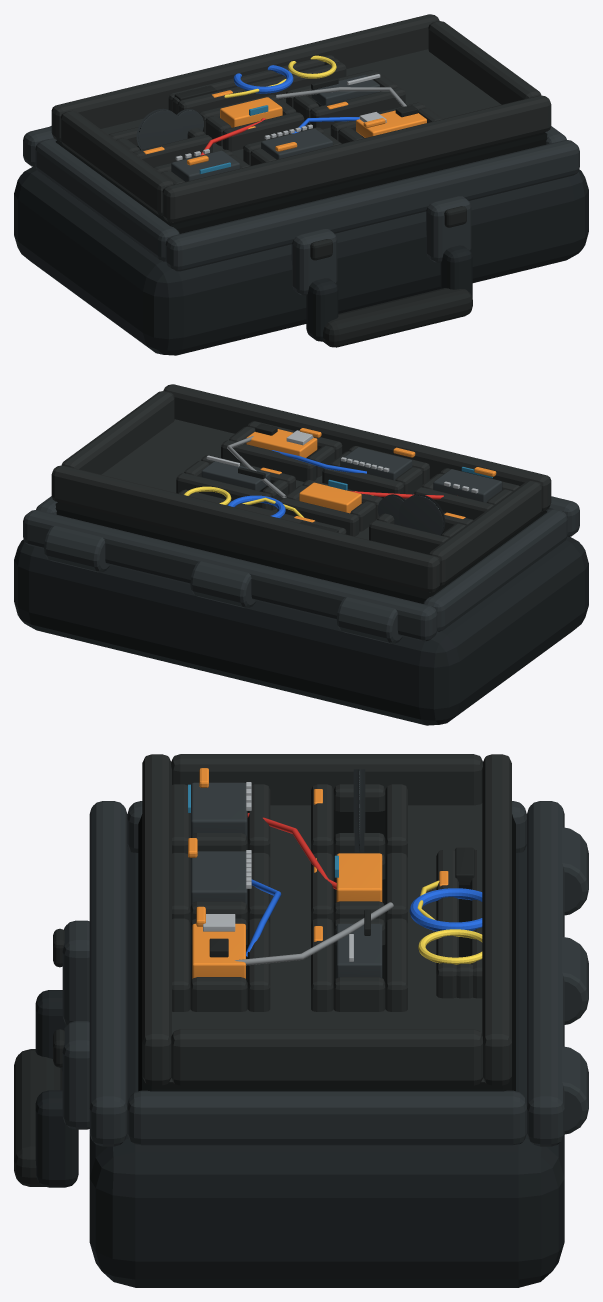
Rendered from EquipmentCase_InventoryStandIn_VariantB.fbx.
3 renders of one model, top to bottom at view 1: azimuth 30°, elevation 25°; view 2: azimuth 150°, elevation 25°; view 3: azimuth 270°, elevation 25°, orthographic. The views are drawn at different scales.
Parts seen in each view (by area): view 1: ECB_Base_Shell, ECB_Lip_Front, ECB_FoamTray_Wall_Front, ECB_FoamTray_Wall_Back, ECB_Lip_Left, ECB_Base_InnerFloor, ECB_FoamTray_Surface, ECB_Handle_Bar, ECB_FoamTray_Wall_Left, ECB_FoamTray_Wall_Right, ECB_Latch_L, ECB_Latch_R (+19 smaller); view 2: ECB_Base_Shell, ECB_FoamTray_Wall_Back, ECB_Lip_Back, ECB_FoamTray_Wall_Front, ECB_Lip_Left, ECB_Base_InnerFloor, ECB_FoamTray_Surface, ECB_FoamTray_Wall_Left, ECB_FoamTray_Wall_Right, ECB_Hinge_Barrel_3, ECB_Hinge_Barrel_2, ECB_Hinge_Barrel_1 (+17 smaller); view 3: ECB_Base_Shell, ECB_Lip_Right, ECB_FoamTray_Surface, ECB_FoamTray_Wall_Right, ECB_Lip_Front, ECB_Lip_Back, ECB_FoamTray_Wall_Left, ECB_FoamTray_Wall_Front, ECB_FoamTray_Wall_Back, ECB_Base_InnerFloor, ECB_Handle_Bar, ECB_Handle_Bracket_R (+38 smaller).
Boxes of the visible parts, x1,y1,x2,y2 form: ECB_Base_Shell: [14, 167, 588, 355]; ECB_Lip_Front: [165, 140, 579, 271]; ECB_FoamTray_Wall_Front: [162, 95, 551, 222]; ECB_FoamTray_Wall_Back: [51, 14, 439, 141]; ECB_Lip_Left: [35, 139, 179, 261]; ECB_Base_InnerFloor: [55, 132, 547, 233]; ECB_FoamTray_Surface: [101, 49, 501, 160]; ECB_Handle_Bar: [323, 288, 472, 347]; ECB_FoamTray_Wall_Left: [60, 110, 173, 215]; ECB_FoamTray_Wall_Right: [428, 21, 541, 104]; ECB_Latch_L: [291, 229, 337, 295]; ECB_Latch_R: [426, 196, 471, 262]; ECB_Base_Shell: [14, 537, 588, 725]; ECB_FoamTray_Wall_Back: [51, 465, 440, 592]; ECB_Lip_Back: [23, 510, 437, 641]; ECB_FoamTray_Wall_Front: [163, 384, 551, 511]; ECB_Lip_Left: [423, 509, 567, 631]; ECB_Base_InnerFloor: [55, 502, 547, 603]; ECB_FoamTray_Surface: [101, 419, 413, 539]; ECB_FoamTray_Wall_Left: [429, 480, 542, 585]; ECB_FoamTray_Wall_Right: [61, 391, 174, 474]; ECB_Hinge_Barrel_3: [44, 525, 109, 572]; ECB_Hinge_Barrel_2: [190, 561, 255, 608]; ECB_Hinge_Barrel_1: [336, 597, 402, 643]; ECB_Base_Shell: [89, 844, 564, 1287]; ECB_Lip_Right: [127, 1090, 526, 1145]; ECB_FoamTray_Surface: [162, 803, 491, 1085]; ECB_FoamTray_Wall_Right: [171, 1029, 482, 1085]; ECB_Lip_Front: [89, 801, 127, 1146]; ECB_Lip_Back: [527, 801, 564, 1146]; ECB_FoamTray_Wall_Left: [171, 754, 482, 805]; ECB_FoamTray_Wall_Front: [142, 754, 171, 1085]; ECB_FoamTray_Wall_Back: [482, 754, 511, 1085]; ECB_Base_InnerFloor: [138, 814, 515, 1091]; ECB_Handle_Bar: [14, 1049, 62, 1186]; ECB_Handle_Bracket_R: [35, 1090, 78, 1187].
Size of the model in its own units: 145 by 61.13 by 107.
